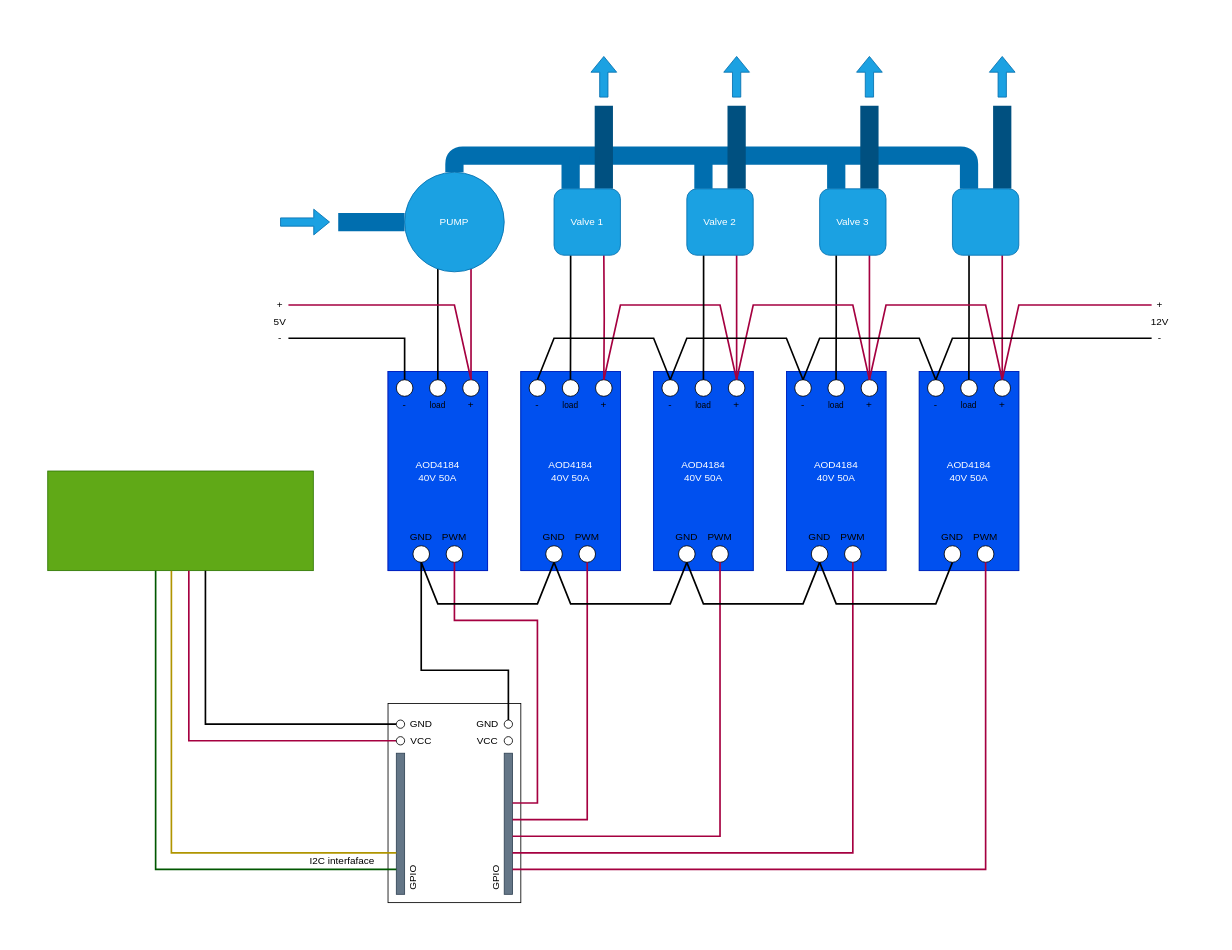
Image size: 1232x950. Some labels were removed from this diagram. Here are the shapes that lost their labels. From the top down, the box of each, then its label:
(952, 188, 1019, 255): Valve n
(47, 470, 313, 571): LCD
(387, 703, 521, 903): ESP32 DEV BOARD
